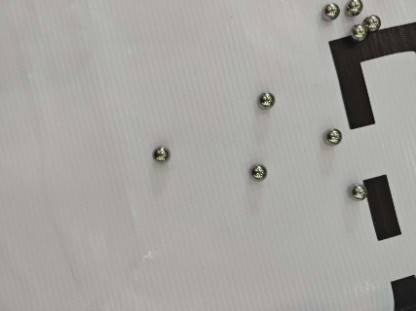ironball: (151, 144, 170, 163), (258, 91, 274, 107), (350, 182, 365, 199), (250, 163, 264, 181), (345, 0, 363, 14), (324, 128, 340, 143), (364, 14, 379, 29), (349, 24, 363, 40), (324, 3, 338, 18)
